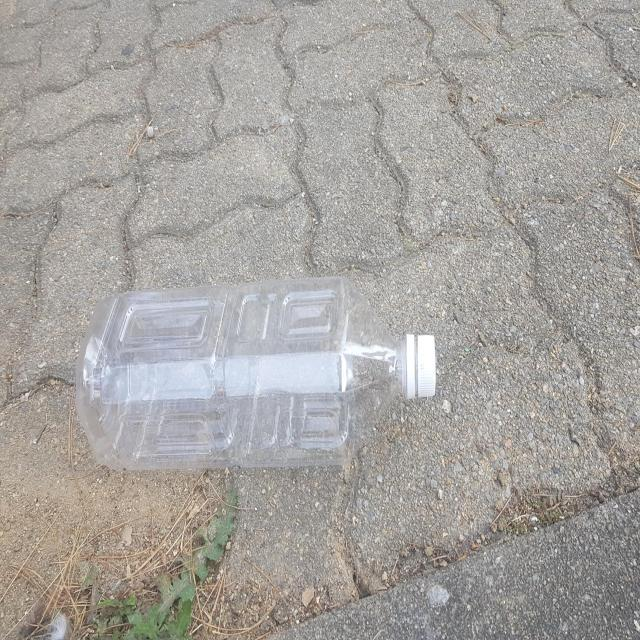plastic: (75, 277, 436, 470)
